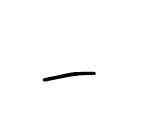minus: (42, 72, 95, 82)
